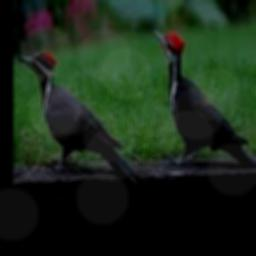Woodpecker: (17, 48, 141, 184), (152, 29, 256, 167)
